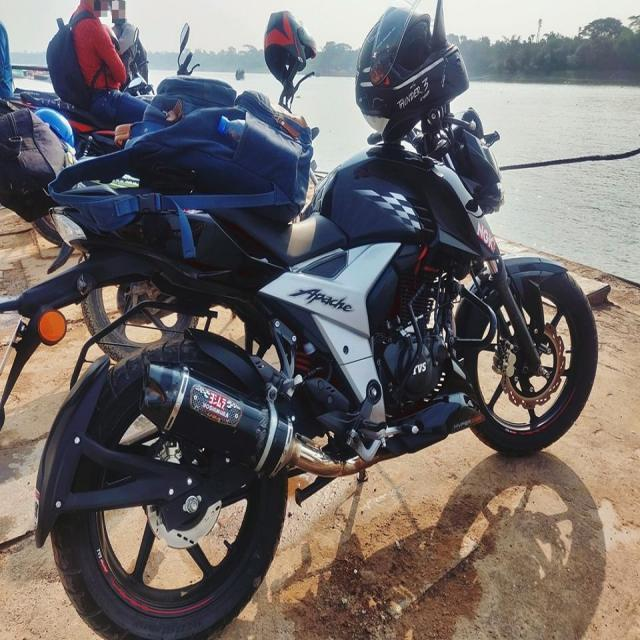Motorbike: (1, 45, 619, 640), (1, 12, 349, 369)
